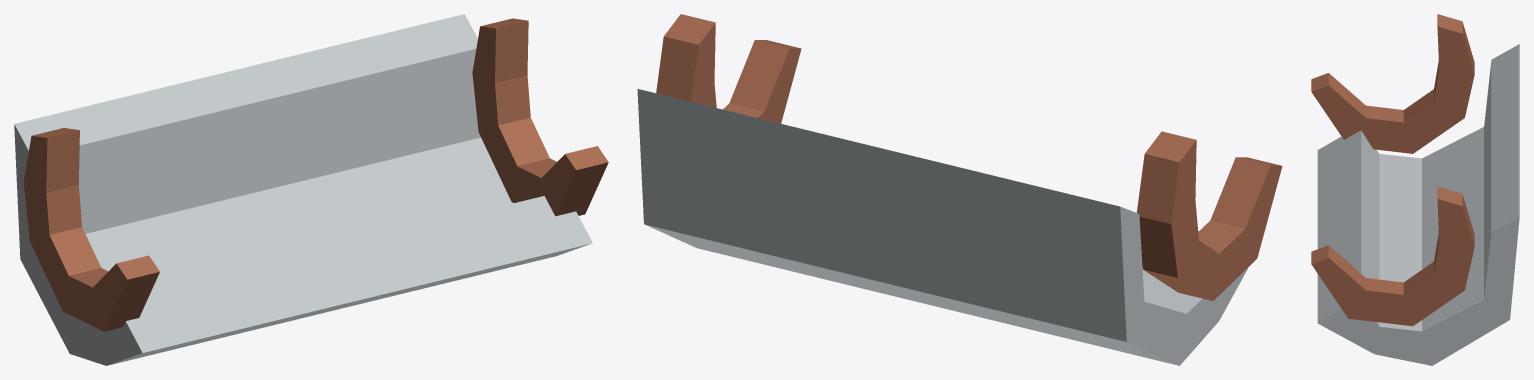
Rendered from FuseHolder.fbx.
3 renders of one model, left to right at view 1: azimuth 30°, elevation 25°; view 2: azimuth 150°, elevation 25°; view 3: azimuth 270°, elevation 25°, orthographic. The views are drawn at different scales.
Visible parts, largest first — view 1: FuseHolder; view 2: FuseHolder; view 3: FuseHolder.
Part boxes in pixels (x1,y1,x2,y2): FuseHolder: (14,14,608,365); FuseHolder: (637,14,1282,365); FuseHolder: (1311,14,1519,365).
Bounding box in the file's own units: 173 × 74.94 × 82.48.
